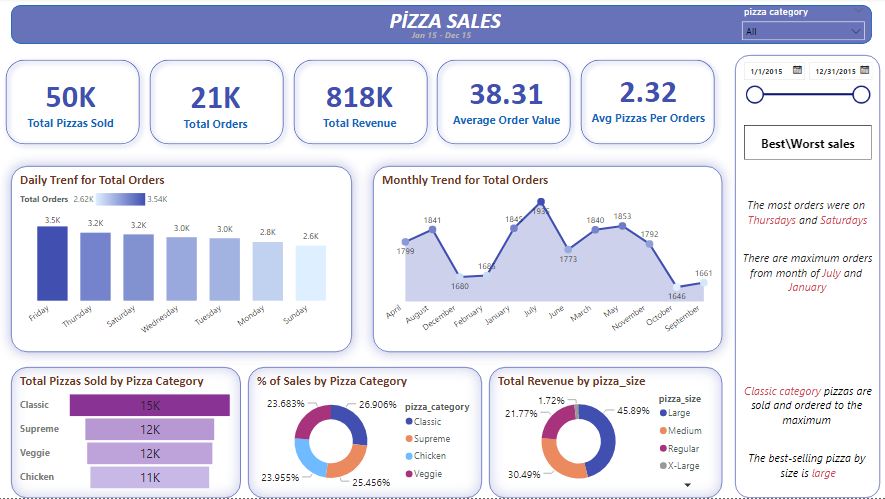

The page's visual inventory and layout, read from the dashboard file:
{"tool":"powerbi","page":{"name":"Overview","canvas":[1280,720],"ordinal":0},"visuals":[{"type":"card","fields":{"Values":["pizza_sales.Total Orders"]},"box":[221.8,89.3,182.9,119.5],"z":0},{"type":"card","fields":{"Values":["pizza_sales.Avg Pizzas Per Orders"]},"box":[822.2,28.8,227.5,224.6],"z":1000},{"type":"card","fields":{"Values":["pizza_sales.Total Pizzas Sold"]},"box":[0,77.8,208.8,141.1],"z":2000},{"type":"card","fields":{"Values":["pizza_sales.Average Order Value"]},"box":[620.6,28.8,223.2,229],"z":3000},{"type":"card","fields":{"Values":["pizza_sales.Total Revenue"]},"box":[413.3,37.4,214.6,220.3],"z":4000},{"type":"shape","box":[0,77.8,214.6,144],"z":5000},{"type":"shape","box":[828,77.8,214.6,144],"z":6000},{"type":"shape","box":[207,77.8,214.6,144],"z":7000},{"type":"shape","box":[414,77.8,214.6,144],"z":8000},{"type":"shape","box":[621,77.8,214.6,144],"z":9000},{"type":"shape","box":[18.7,10.1,1239.8,56.2],"z":10000},{"type":"textbox","box":[558.7,8.6,347,56.2],"z":11000},{"type":"textbox","box":[1050,66,209,188],"z":12000},{"type":"textbox","box":[590.4,38.9,214.6,43.2],"z":13000},{"type":"columnChart","title":"Daily Trenf for Total Orders","fields":{"Category":["pizza_sales.Day Name"],"Y":["pizza_sales.Total Orders"]},"box":[18.7,241.9,491,267.8],"z":14000},{"type":"areaChart","title":"Monthly Trend for Total Orders","fields":{"Y":["pizza_sales.Total Orders"],"Category":["pizza_sales.Month Name"]},"box":[540,241.9,502.6,267.8],"z":15000},{"type":"funnel","title":"Total Pizzas Sold by Pizza Category","fields":{"Category":["pizza_sales.pizza_category"],"Y":["pizza_sales.Total Pizzas Sold"]},"box":[18.7,531.4,331.2,188.6],"z":16000},{"type":"donutChart","title":"% of Sales by Pizza Category","fields":{"Category":["pizza_sales.pizza_category"],"Y":["pizza_sales.Total Revenue"]},"box":[360,531.4,337,188.6],"z":17000},{"type":"donutChart","fields":{"Category":["pizza_sales.pizza_size"],"Y":["pizza_sales.Total Revenue"]},"box":[707,531.4,335.5,188.6],"z":18000},{"type":"textbox","box":[1061.3,82.1,208.8,637.9],"z":19000},{"type":"textbox","box":[1067,282.2,197.3,154.1],"z":20000},{"type":"slicer","fields":{"Values":["pizza_sales.pizza_category"]},"box":[1061.3,5.8,197.3,54.7],"z":21000},{"type":"slicer","fields":{"Values":["pizza_sales.order_date"]},"box":[1061.3,82.1,203,96.5],"z":22000},{"type":"pageNavigator","box":[1074.2,182.9,184.3,50.4],"z":23000}]}

Visuals, with their boxes in screenshot pixels (x1, y1, x2, y2), scaled from the page's 1280x720 canvas onto the 885x499 screenshot:
card - pizza_sales.Total Orders: 153 62 280 145
card - pizza_sales.Avg Pizzas Per Orders: 568 20 726 176
card - pizza_sales.Total Pizzas Sold: 0 54 144 152
card - pizza_sales.Average Order Value: 429 20 583 179
card - pizza_sales.Total Revenue: 286 26 434 179
shape: 0 54 148 154
shape: 572 54 721 154
shape: 143 54 291 154
shape: 286 54 435 154
shape: 429 54 578 154
shape: 13 7 870 46
textbox: 386 6 626 45
textbox: 726 46 870 176
textbox: 408 27 557 57
"Daily Trenf for Total Orders" columnChart: 13 168 352 353
"Monthly Trend for Total Orders" areaChart: 373 168 721 353
"Total Pizzas Sold by Pizza Category" funnel: 13 368 242 498
"% of Sales by Pizza Category" donutChart: 249 368 482 498
donutChart - pizza_sales.pizza_size x pizza_sales.Total Revenue: 489 368 721 498
textbox: 734 57 878 498
textbox: 738 196 874 302
slicer - pizza_sales.pizza_category: 734 4 870 42
slicer - pizza_sales.order_date: 734 57 874 124
pageNavigator: 743 127 870 162
